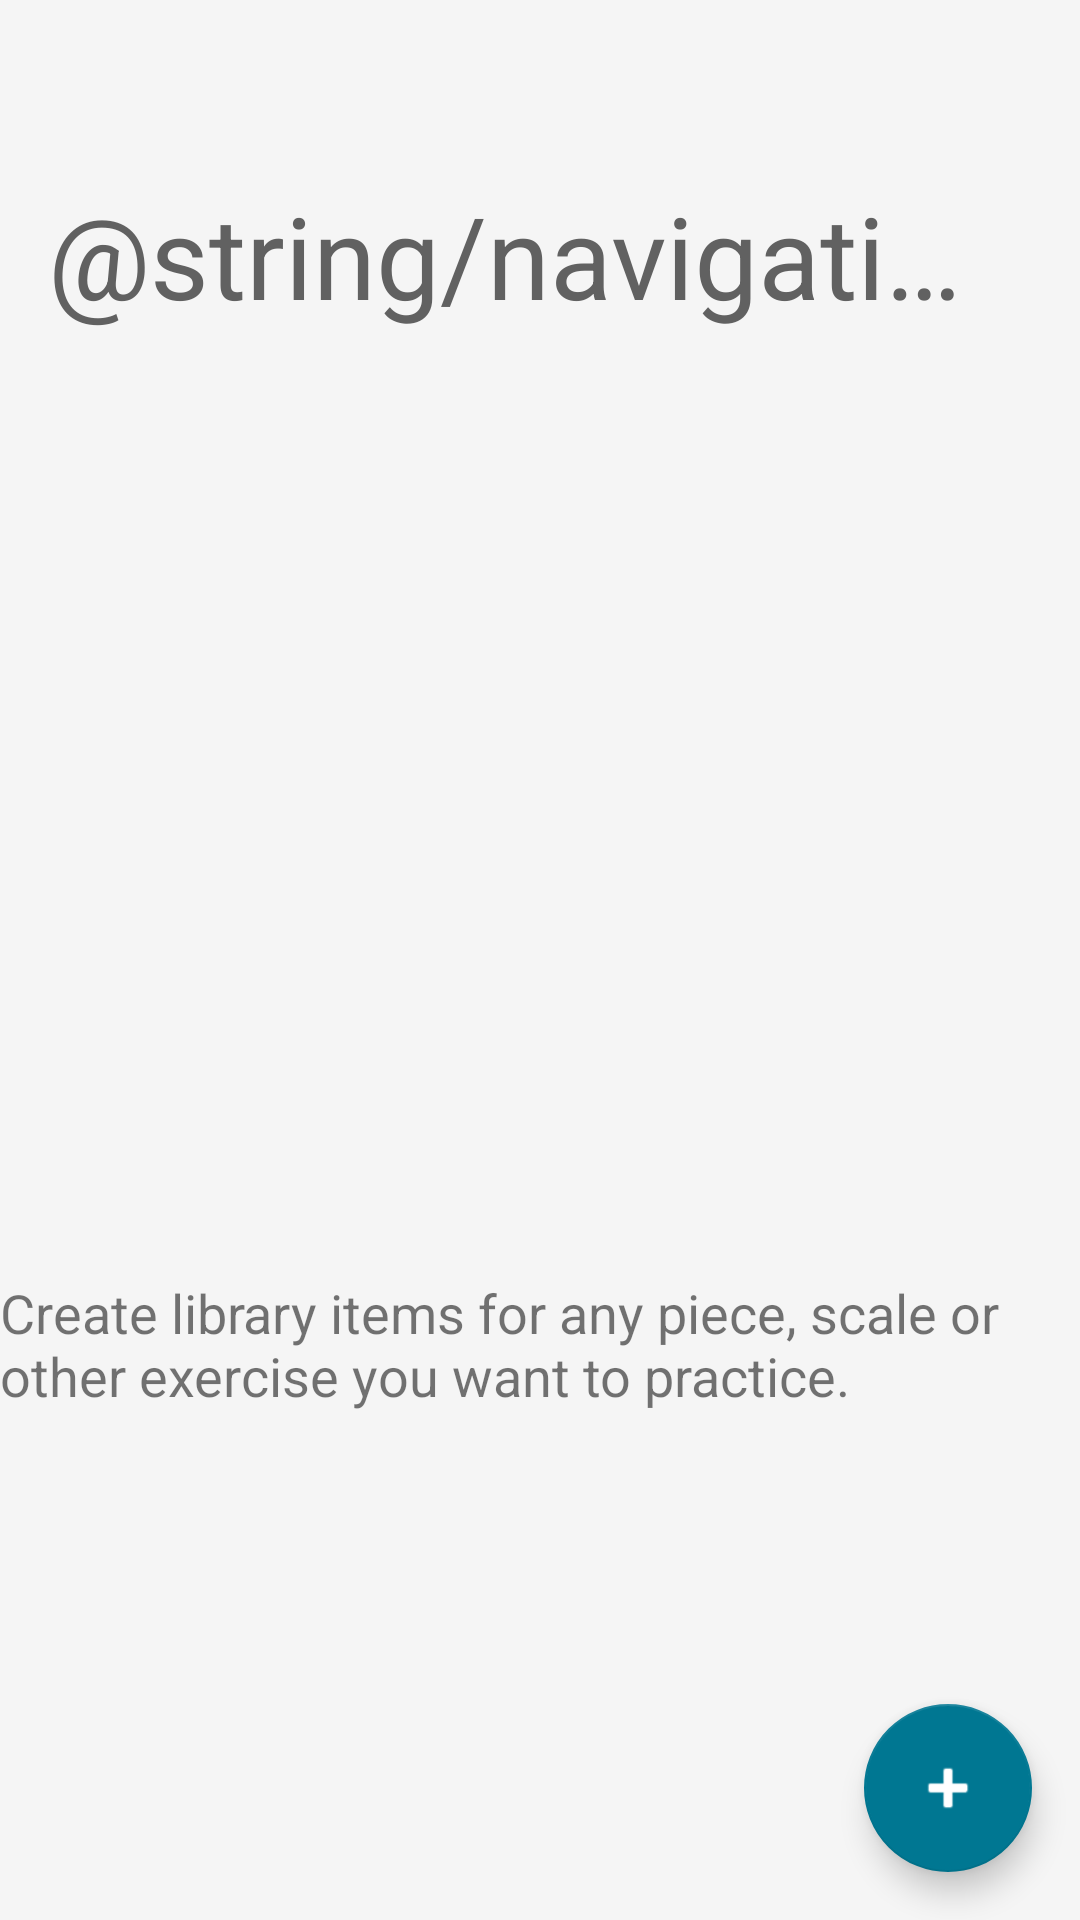

Icon bounding boxes for this 1080w x 1920h phone screenshot, format (x1=x1, y1=y1, x2=x2, y2=y2):
Create a new Item: (x1=864, y1=1704, x2=1032, y2=1872)
